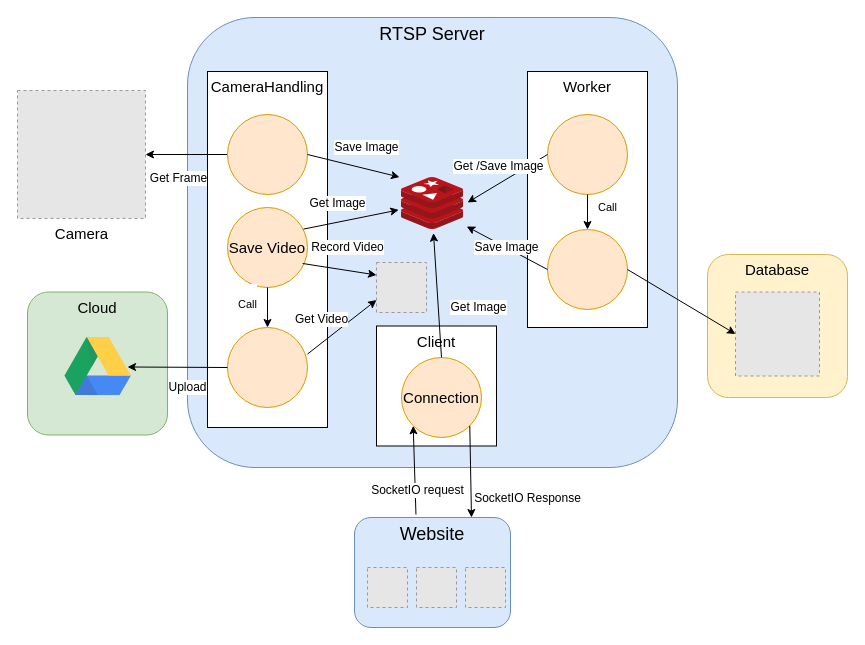
Image size: 865x645. Some labels were removed from this diagram. Grey dashed boxes stand in for pictures. The shapes that lost their labels are listed below. From the top down, each one's centre as x and y in pixels, then its label:
At point (267, 154): "Read Stream".
At point (587, 154): "Object Detection".
At point (587, 269): "Heatmap and Face Analysis".
At point (97, 365): "Google Drive".
At point (267, 367): "Upload Video".
